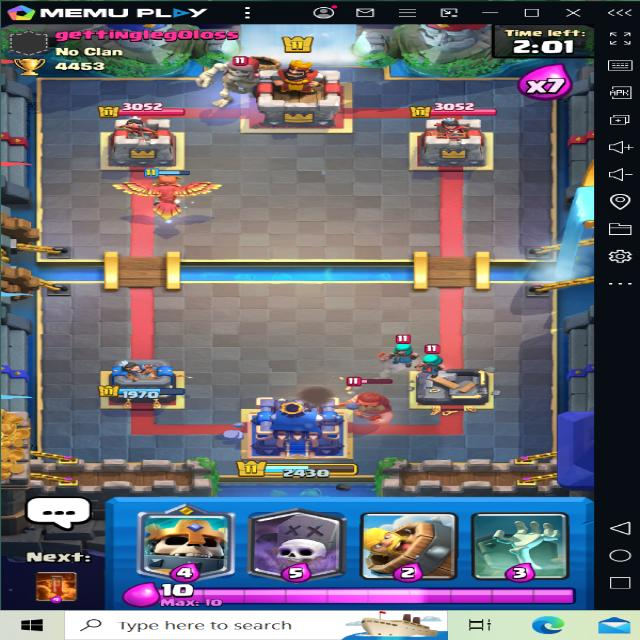giant-skeleton: (195, 49, 278, 108)
rascal-boy: (344, 374, 403, 420)
rascal-girl: (385, 336, 427, 366), (416, 343, 454, 373)
